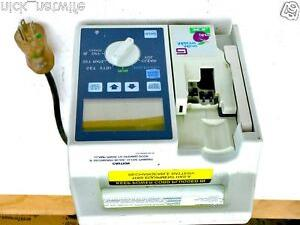plumxl1: (67, 21, 258, 221)
